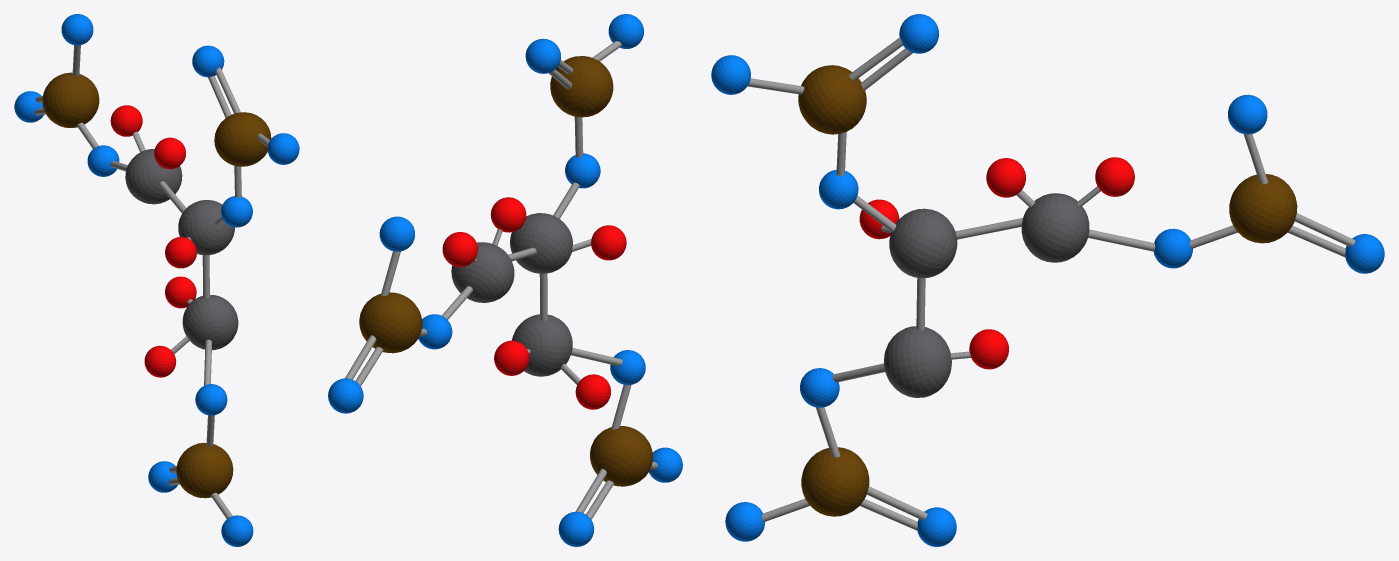
The model's file is nitrog.gltf.
3 renders of one model, left to right at view 1: azimuth 30°, elevation 25°; view 2: azimuth 150°, elevation 25°; view 3: azimuth 270°, elevation 25°, orthographic. The views are drawn at different scales.
Visible parts, largest first — view 1: Sphere, Sphere.019, Sphere.011, Sphere.015, Sphere.005, Sphere.003, Sphere.012, Sphere.017, Sphere.016, Sphere.007, Sphere.004, Sphere.010 (+9 smaller); view 2: Sphere, Sphere.019, Sphere.015, Sphere.005, Sphere.011, Sphere.003, Sphere.001, Sphere.008, Sphere.018, Sphere.004, Sphere.006, Sphere.010 (+8 smaller); view 3: Sphere.011, Sphere.005, Sphere.003, Sphere.019, Sphere, Sphere.015, Sphere.009, Sphere.006, Sphere.012, Sphere.004, Sphere.007, Sphere.014 (+7 smaller).
Boxes of the visible parts, x1=… form: Sphere: x1=42, y1=72, x2=99, y2=127; Sphere.019: x1=176, y1=442, x2=233, y2=498; Sphere.011: x1=182, y1=295, x2=238, y2=350; Sphere.015: x1=214, y1=112, x2=271, y2=166; Sphere.005: x1=178, y1=200, x2=234, y2=255; Sphere.003: x1=125, y1=149, x2=182, y2=204; Sphere.012: x1=267, y1=133, x2=299, y2=164; Sphere.017: x1=221, y1=515, x2=253, y2=546; Sphere.016: x1=195, y1=384, x2=227, y2=415; Sphere.007: x1=154, y1=137, x2=185, y2=169; Sphere.004: x1=61, y1=14, x2=93, y2=45; Sphere.010: x1=144, y1=345, x2=176, y2=377; Sphere: x1=359, y1=292, x2=422, y2=353; Sphere.019: x1=590, y1=426, x2=652, y2=486; Sphere.015: x1=550, y1=56, x2=613, y2=117; Sphere.005: x1=510, y1=213, x2=572, y2=273; Sphere.011: x1=512, y1=314, x2=572, y2=376; Sphere.003: x1=451, y1=242, x2=514, y2=302; Sphere.001: x1=328, y1=378, x2=363, y2=413; Sphere.008: x1=591, y1=225, x2=626, y2=260; Sphere.018: x1=558, y1=511, x2=594, y2=546; Sphere.004: x1=379, y1=216, x2=414, y2=251; Sphere.006: x1=442, y1=232, x2=477, y2=266; Sphere.010: x1=575, y1=374, x2=610, y2=409; Sphere.011: x1=884, y1=326, x2=951, y2=397; Sphere.005: x1=889, y1=208, x2=957, y2=278; Sphere.003: x1=1021, y1=193, x2=1089, y2=262; Sphere.019: x1=801, y1=447, x2=869, y2=516; Sphere: x1=1229, y1=174, x2=1297, y2=243; Sphere.015: x1=798, y1=65, x2=866, y2=134; Sphere.009: x1=969, y1=329, x2=1008, y2=369; Sphere.006: x1=1095, y1=157, x2=1134, y2=196; Sphere.012: x1=711, y1=55, x2=750, y2=94; Sphere.004: x1=1228, y1=94, x2=1267, y2=134; Sphere.007: x1=986, y1=158, x2=1025, y2=197; Sphere.014: x1=899, y1=14, x2=938, y2=53.
Size of the model in its own units: 8.18 by 39.19 by 43.35.
